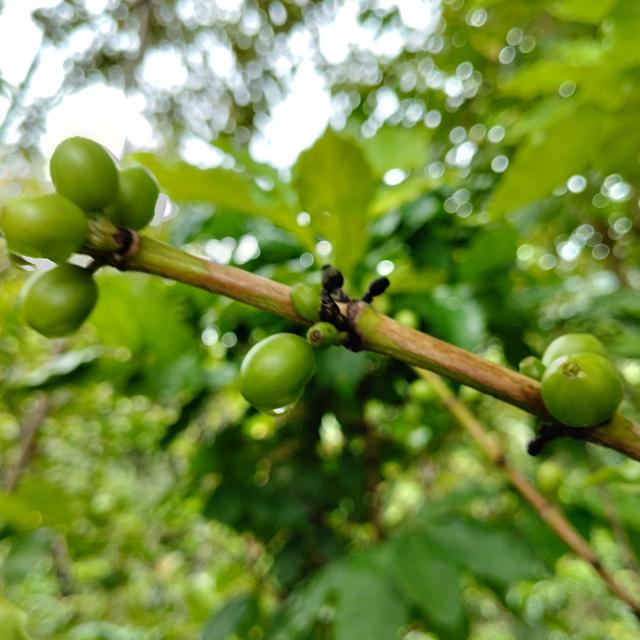green: (542, 352, 624, 427), (238, 333, 315, 412), (0, 194, 87, 263), (49, 136, 118, 211), (103, 165, 159, 230), (542, 334, 609, 367)
